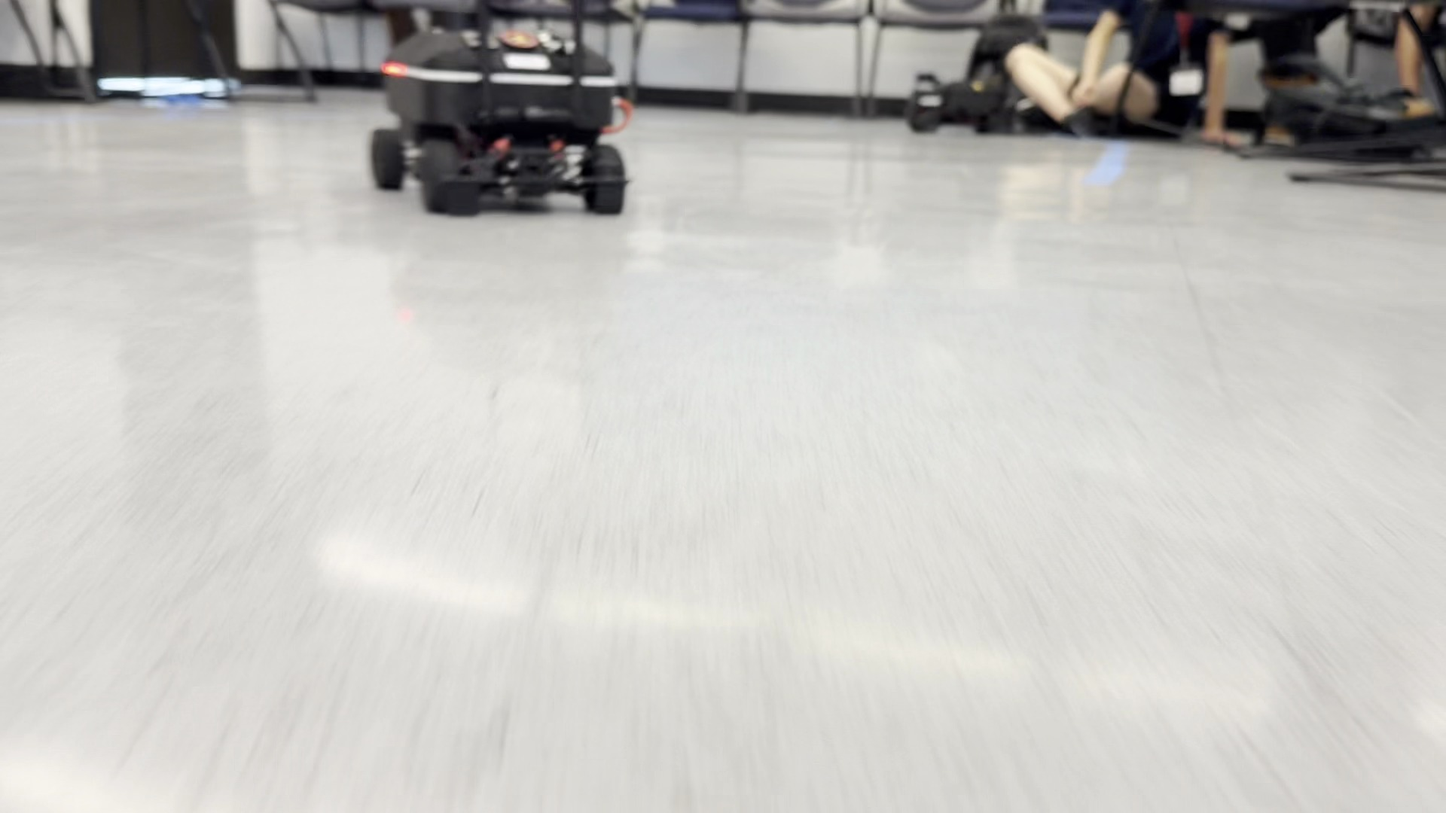racecar: (367, 10, 633, 218)
